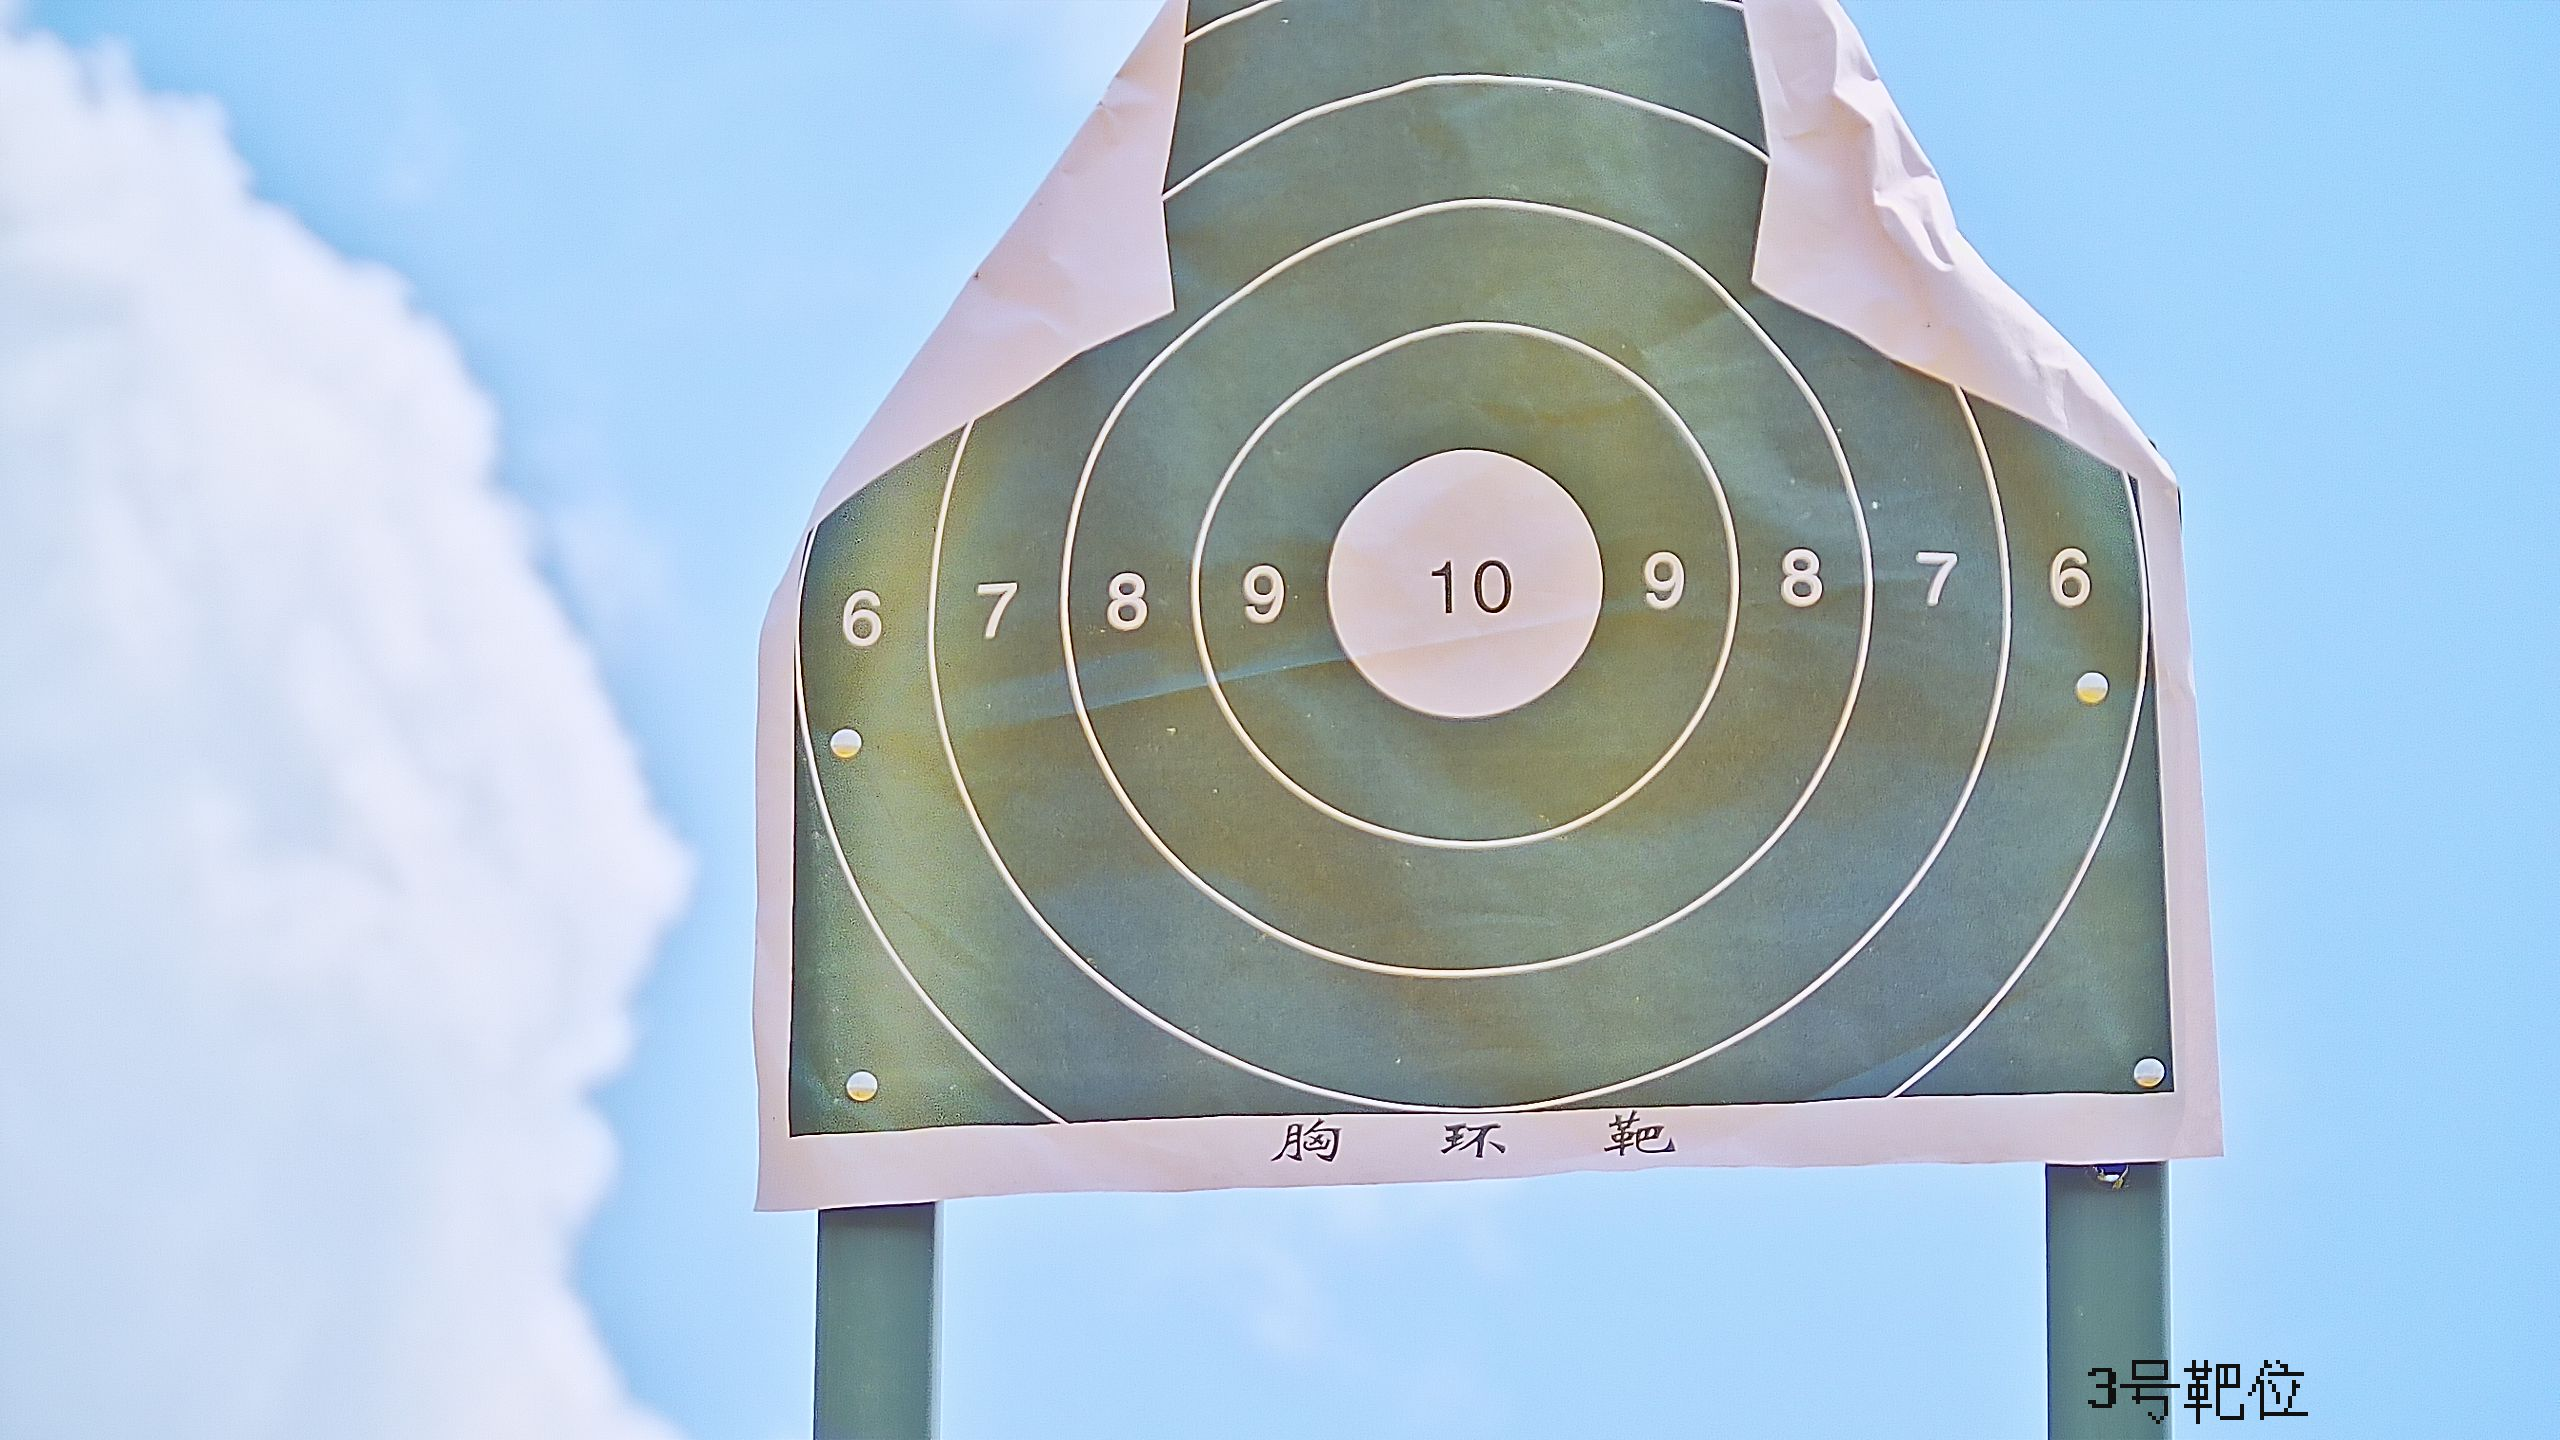kernel: (1459, 587, 1466, 593)
target: (788, 2, 2178, 1132)
ten: (1326, 447, 1605, 716)
